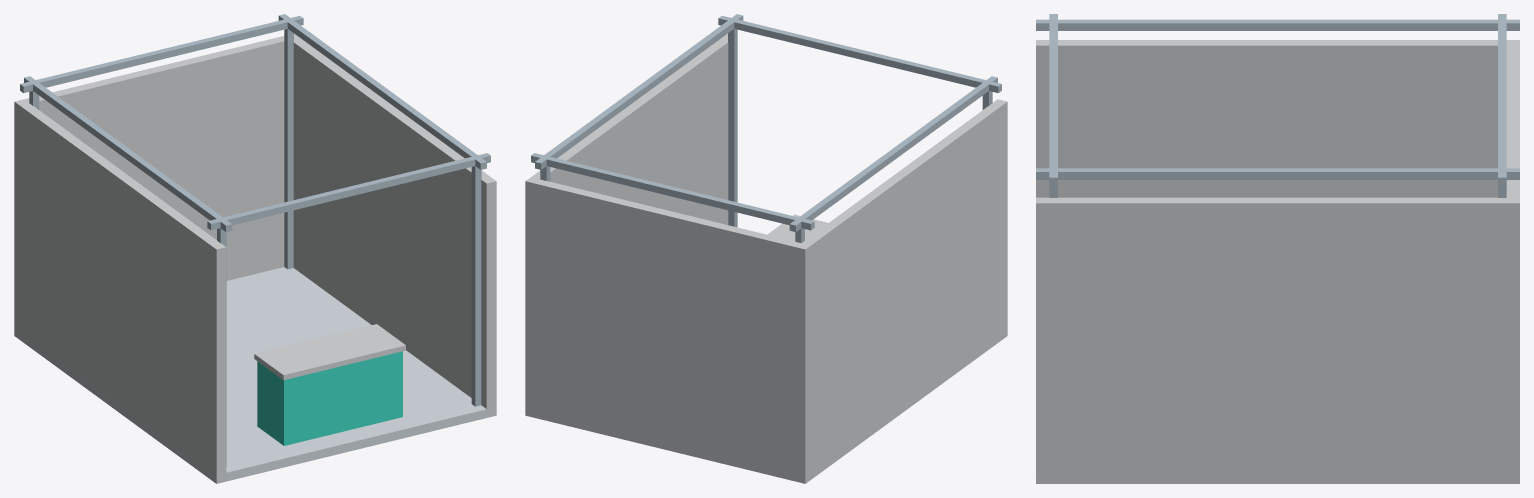
The picture shows the model from 3 angles, left to right: view 1: azimuth 30°, elevation 25°; view 2: azimuth 150°, elevation 25°; view 3: azimuth 270°, elevation 25°; orthographic projection. The views are drawn at different scales.
Parts seen in each view (by area): view 1: Exhibition Booth Concept; view 2: Exhibition Booth Concept; view 3: Exhibition Booth Concept.
Boxes of the visible parts, bbox=[...] form: Exhibition Booth Concept: bbox=[14, 14, 496, 483]; Exhibition Booth Concept: bbox=[525, 14, 1007, 483]; Exhibition Booth Concept: bbox=[1036, 14, 1519, 483].
Bounding box in the file's own units: 4 × 3.49 × 5.
